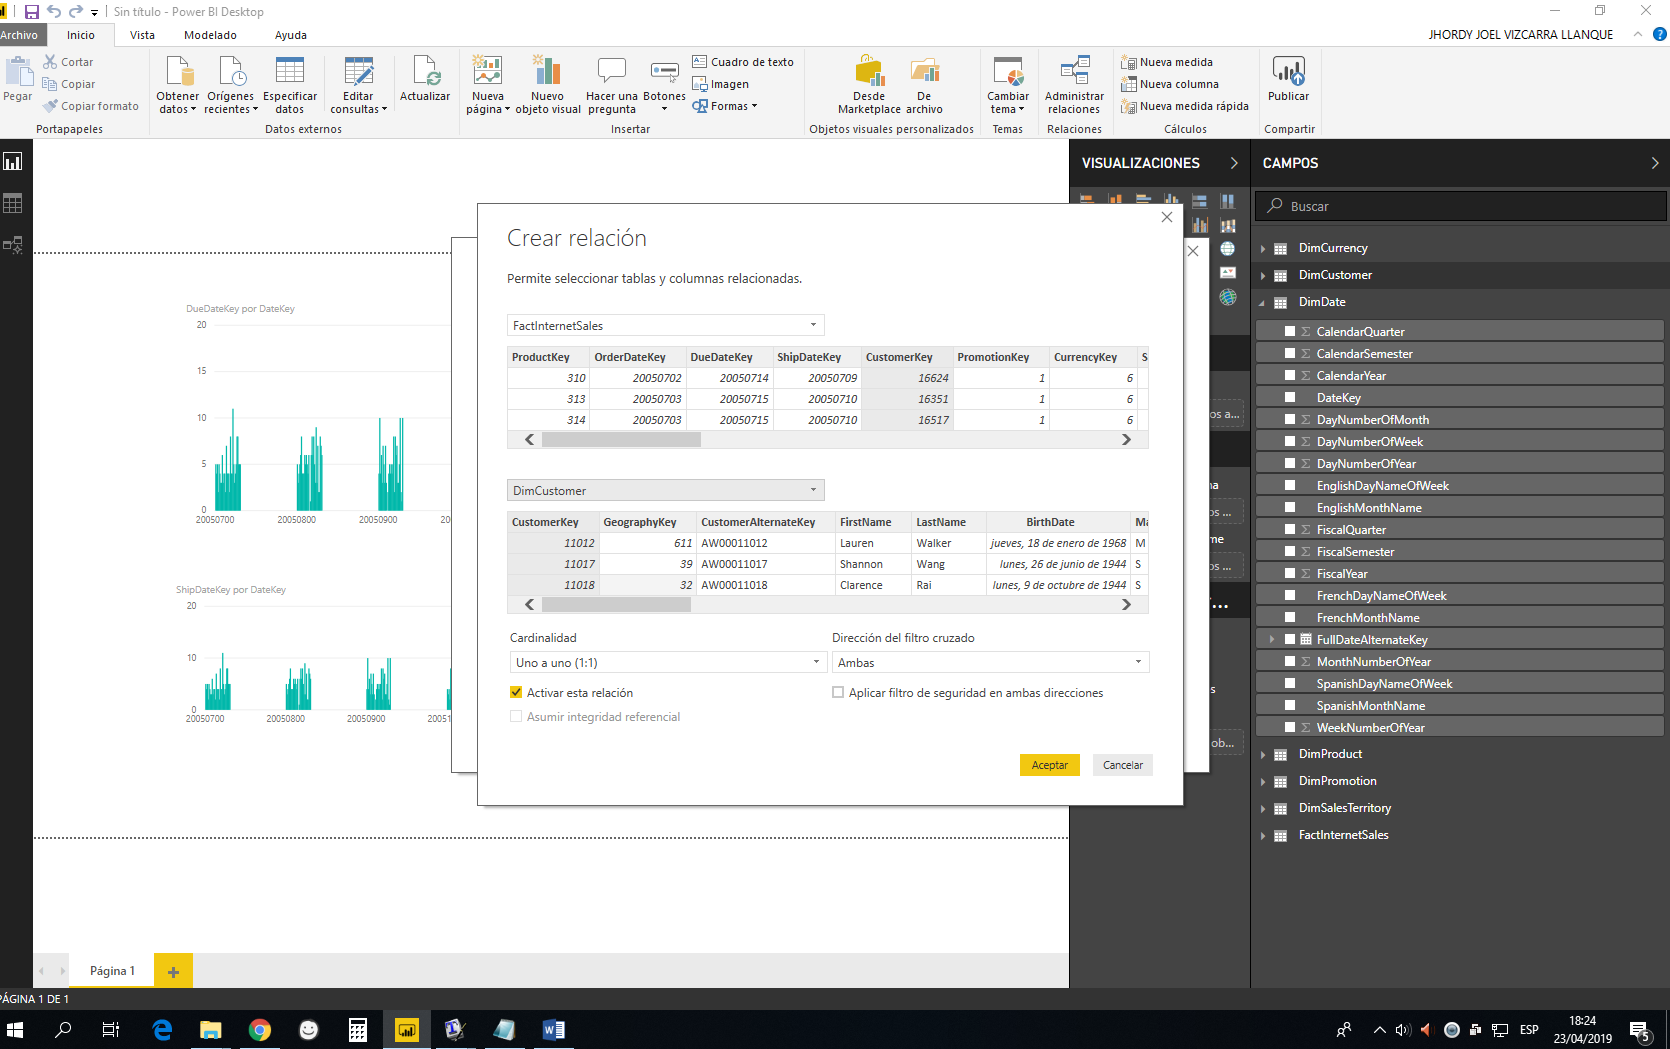

What the dashboard file says about the page in this screenshot:
{"tool":"powerbi","page":{"name":"Página 1","canvas":[1280,720],"ordinal":0},"visuals":[{"type":"clusteredColumnChart","fields":{"Y":["CountNonNull(FactInternetSales.DueDateKey)"],"Category":["DimDate.DateKey"]},"box":[183.6,58.2,626,287.9],"z":1},{"type":"clusteredColumnChart","fields":{"Y":["CountNonNull(FactInternetSales.ShipDateKey)"],"Category":["DimDate.DateKey"]},"box":[171.5,405.3,618.9,186.6],"z":2}]}

Visuals, with their boxes on the page's 1280x720 design canvas (x1, y1, x2, y2). These are canvas units, not pixel positions in the 1670x1049 screenshot, which may show the page scaled, cropped or inside an application window:
clusteredColumnChart - CountNonNull(FactInternetSales.DueDateKey) x DimDate.DateKey: box(184, 58, 810, 346)
clusteredColumnChart - CountNonNull(FactInternetSales.ShipDateKey) x DimDate.DateKey: box(172, 405, 790, 592)
